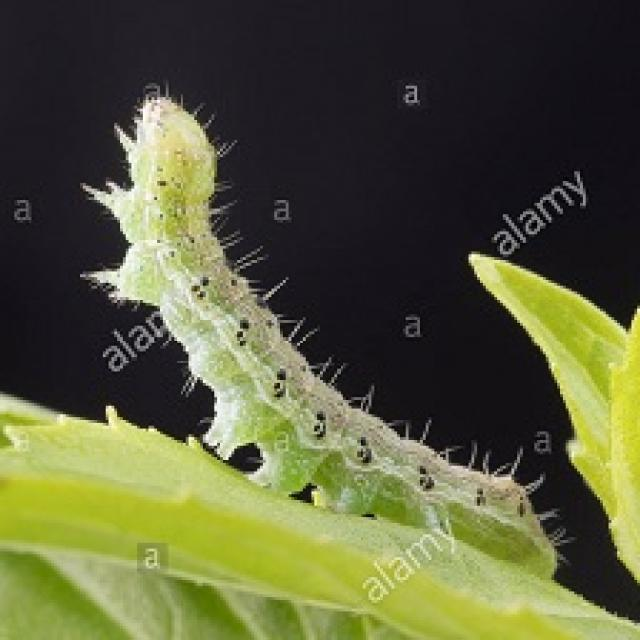Cabbage-worm: (87, 74, 567, 579)
